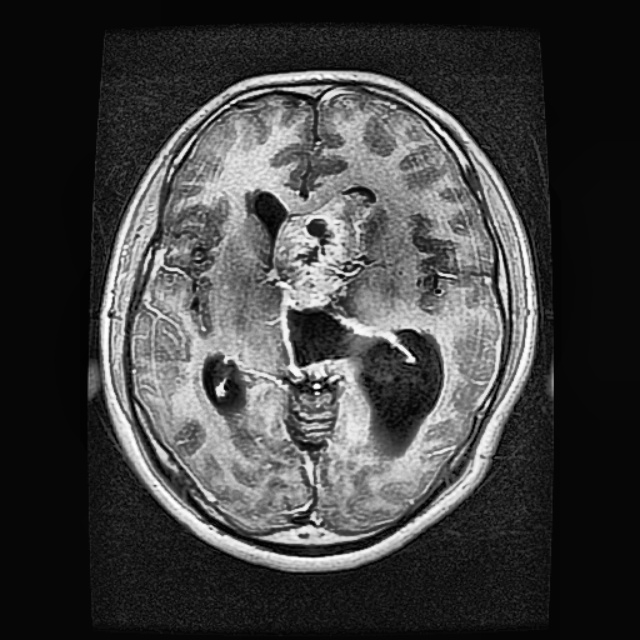Glioma: (268, 189, 374, 314)
